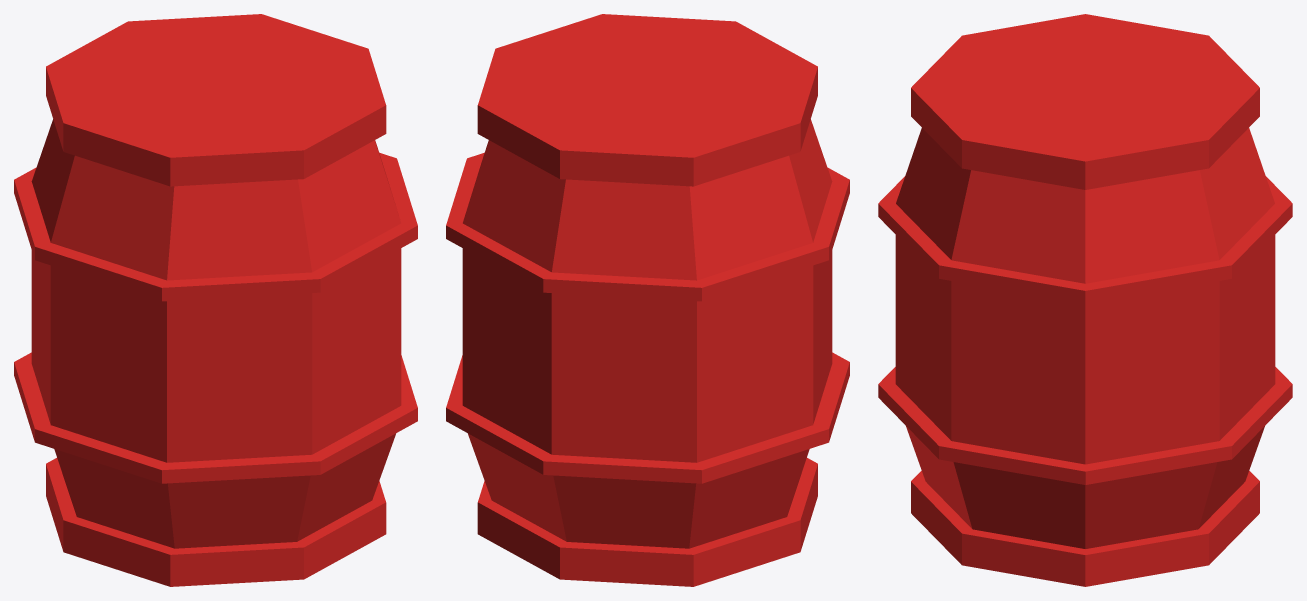
File: barrel.fbx
3 views of the same model, side by side, from view 1: azimuth 30°, elevation 25°; view 2: azimuth 150°, elevation 25°; view 3: azimuth 270°, elevation 25° (orthographic).
Parts seen in each view (by area): view 1: Explosive Barrel; view 2: Explosive Barrel; view 3: Explosive Barrel.
Part boxes in pixels (x1,y1,x2,y2): Explosive Barrel: (14,14,417,586); Explosive Barrel: (446,14,849,586); Explosive Barrel: (878,14,1292,586).
Size of the model in its own units: 133 by 151 by 133.
